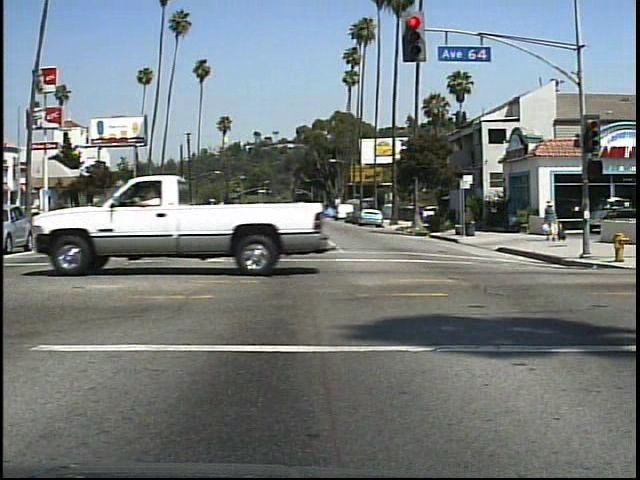person: (539, 193, 566, 248)
